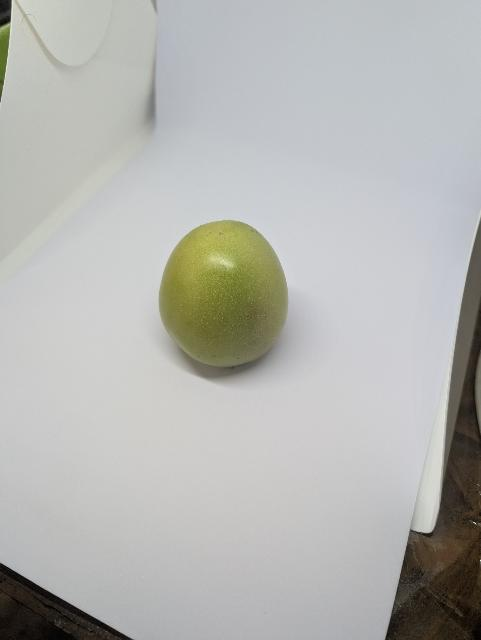green: (150, 197, 306, 381)
